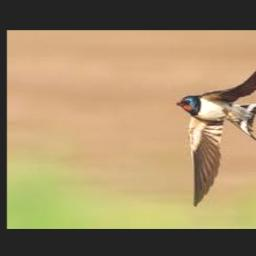Swallow: (175, 71, 256, 207)
